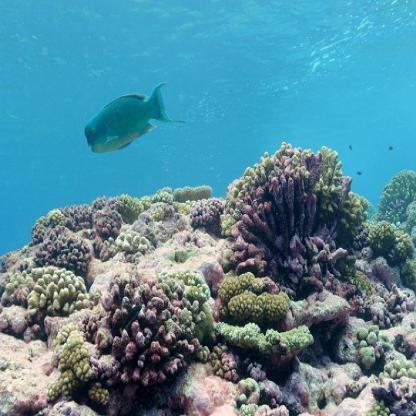Bio: (80, 78, 193, 152)
